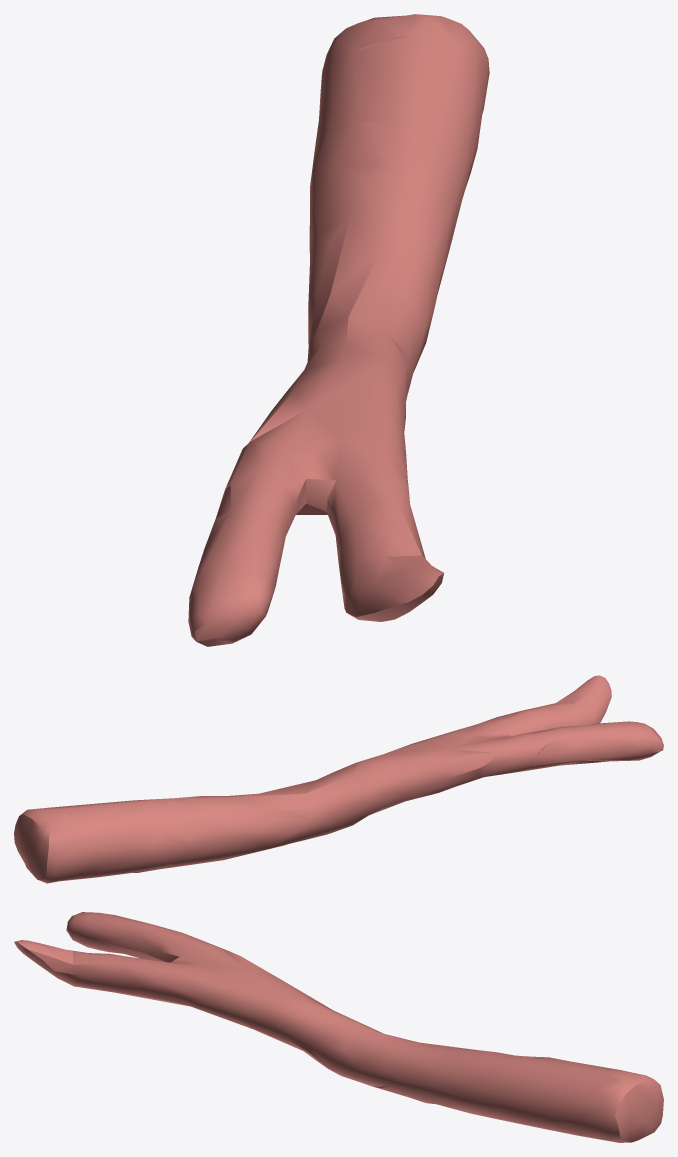
File: fma223219_mm1752m.glb
3 views of the same model, one above another, from view 1: azimuth 30°, elevation 25°; view 2: azimuth 150°, elevation 25°; view 3: azimuth 270°, elevation 25° (orthographic). The views are drawn at different scales.
Visible parts, largest first — view 1: FMA223219_MM1752M; view 2: FMA223219_MM1752M; view 3: FMA223219_MM1752M.
Boxes of the visible parts, box(x1,y1,x2,y2) form: FMA223219_MM1752M: box(188, 14, 489, 646); FMA223219_MM1752M: box(14, 675, 663, 883); FMA223219_MM1752M: box(14, 912, 663, 1142).
Size of the model in its own units: 0.0326 by 0.00598 by 0.0433.
